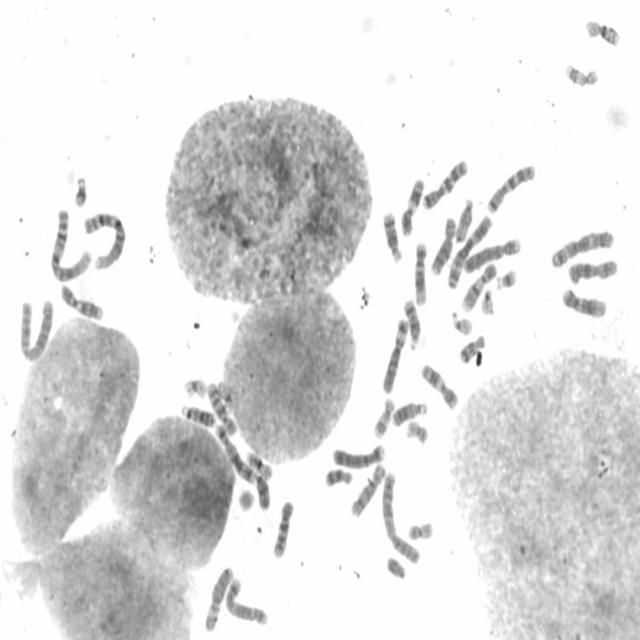A1: (48, 203, 94, 283), (80, 205, 128, 271)
A2: (379, 466, 422, 566), (16, 293, 56, 363)
A3: (444, 210, 493, 290), (548, 224, 616, 269)
B4: (461, 233, 522, 274), (330, 438, 386, 469)
B5: (213, 419, 256, 485), (223, 575, 270, 627)
C10: (205, 378, 239, 436), (270, 494, 296, 561)
C11: (418, 358, 460, 411), (398, 173, 426, 237)
C12: (559, 282, 609, 319), (411, 237, 429, 306)
C6: (379, 313, 410, 395), (201, 561, 236, 633)
C7: (484, 158, 537, 216), (419, 154, 469, 212)
C8: (348, 459, 387, 519), (427, 212, 457, 277)
C9: (56, 279, 105, 322), (460, 258, 498, 312)
D13: (178, 398, 218, 428), (390, 397, 428, 428)
D14: (379, 205, 404, 263), (400, 295, 422, 351)
D15: (452, 192, 475, 244), (250, 470, 272, 514)
E16: (583, 14, 622, 47), (243, 446, 275, 481)
E17: (371, 392, 396, 440), (562, 58, 600, 88)
E18: (457, 329, 487, 365), (322, 463, 354, 489)
F19: (180, 373, 208, 400), (215, 377, 236, 413)
F20: (404, 415, 430, 446), (405, 516, 435, 542)
G21: (70, 170, 90, 210), (493, 263, 519, 292)
G22: (449, 307, 474, 336), (478, 284, 496, 316)
X: (565, 253, 620, 286)
Y: (383, 552, 408, 581)
